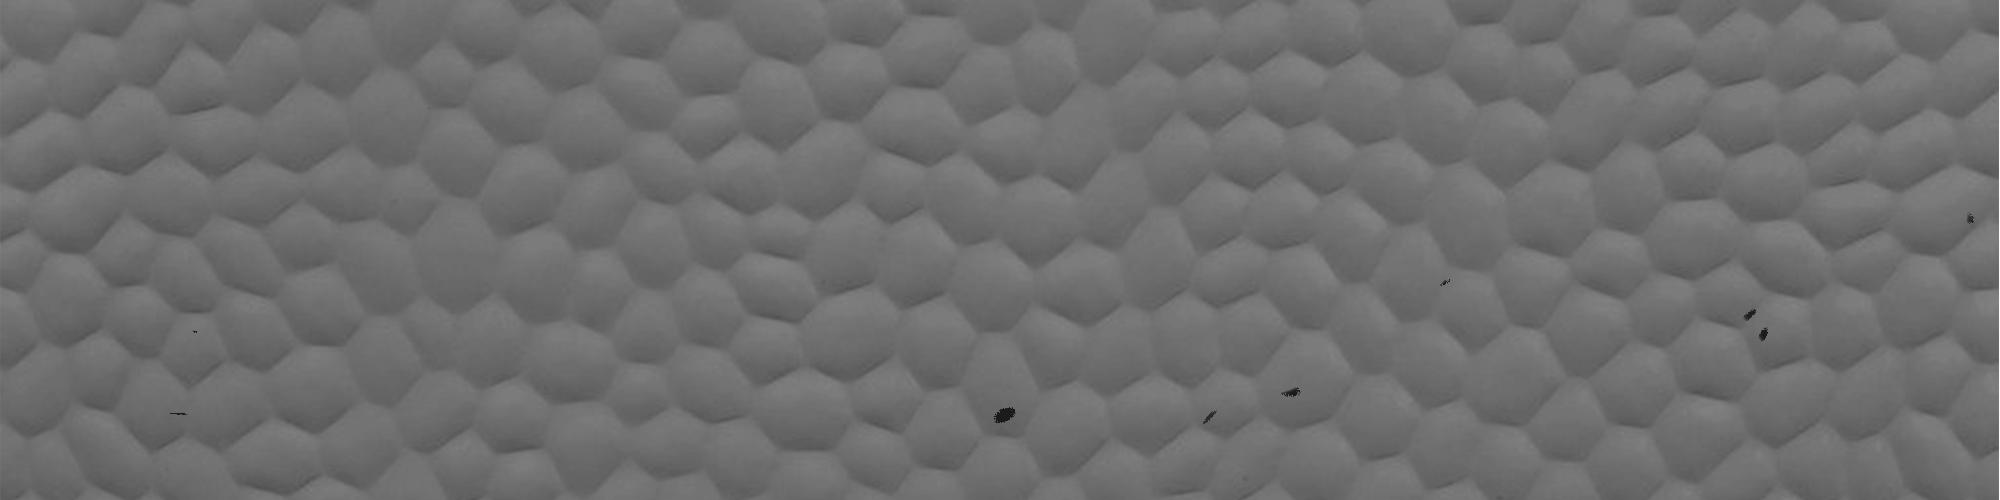Decomposed: (168, 398, 195, 427), (1194, 403, 1223, 429), (986, 404, 1024, 421), (1278, 383, 1307, 403), (1430, 273, 1457, 290), (187, 318, 202, 337)
